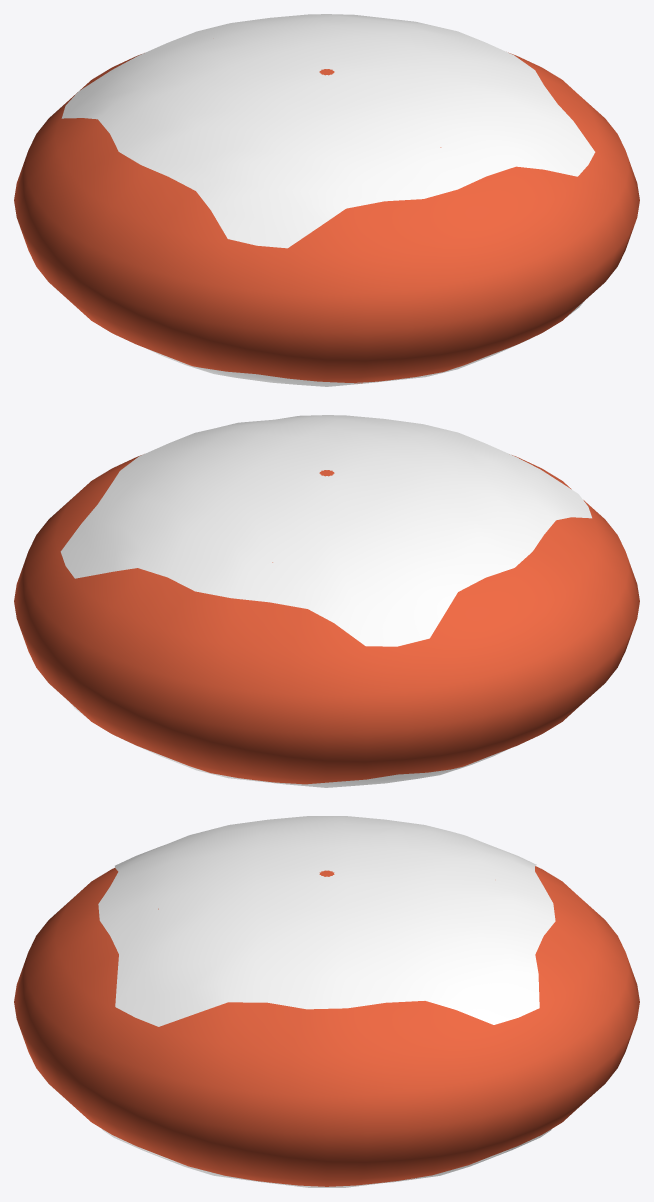
File: yy巧克力_橘色.glb
3 views of the same model, one above another, from view 1: azimuth 30°, elevation 25°; view 2: azimuth 150°, elevation 25°; view 3: azimuth 270°, elevation 25° (orthographic).
Parts seen in each view (by area): view 1: Cube, y, y.001; view 2: Cube, y, y.001; view 3: Cube, y, y.001.
Boxes of the visible parts, <box> form: Cube: <box>14,52,639,383</box>; y: <box>61,14,595,248</box>; y.001: <box>146,301,584,386</box>; Cube: <box>14,455,639,784</box>; y: <box>60,415,591,646</box>; y.001: <box>68,701,507,787</box>; Cube: <box>14,866,639,1186</box>; y: <box>98,816,555,1026</box>; y.001: <box>102,1129,551,1187</box>.
Bounding box in the file's own units: 3.39 × 1.54 × 3.39.
Materials: 2 (1 with a texture image).
